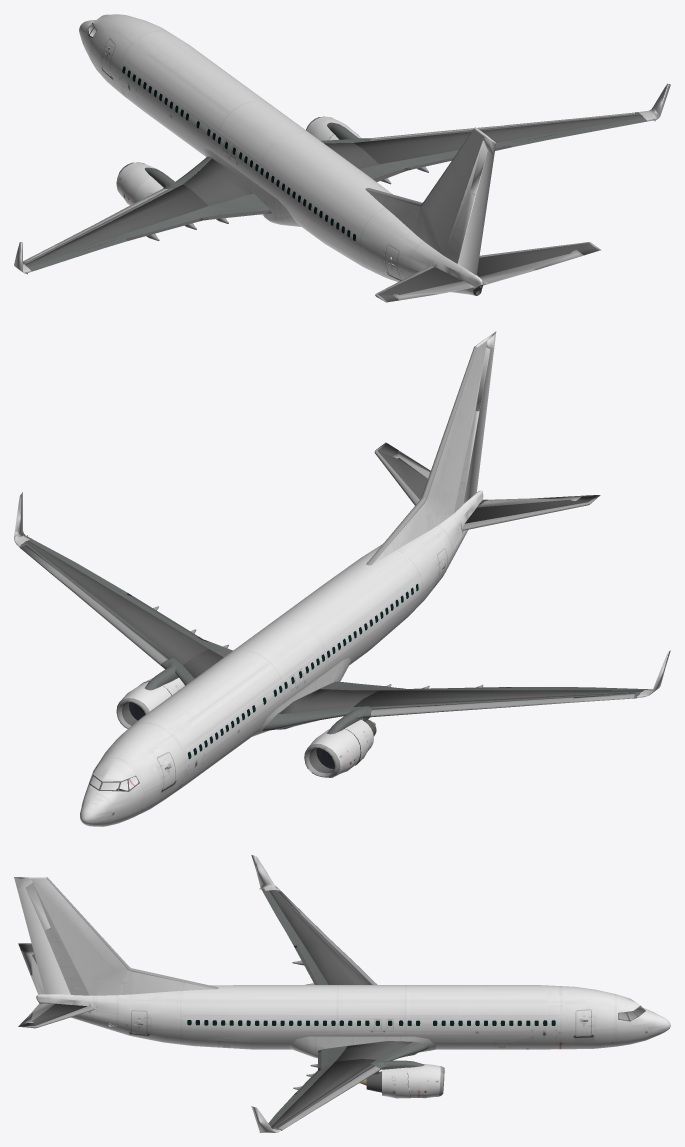
The picture shows the model from 3 angles, top to bottom: view 1: azimuth 30°, elevation 25°; view 2: azimuth 150°, elevation 25°; view 3: azimuth 270°, elevation 25°; orthographic projection. The views are drawn at different scales.
Visible parts, largest first — view 1: fuselage, dorrhfront_0, vstab, ngww, windowslh; view 2: fuselage, dorrhfront_0, vstab, ngww, windowslh; view 3: fuselage, dorrhfront_0, vstab, ngww, windowslh.
Part boxes in pixels (box(x1,y1,x2,y2)): fuselage: box(79, 14, 495, 295); dorrhfront_0: box(23, 23, 655, 302); vstab: box(366, 127, 495, 263); ngww: box(14, 48, 670, 273); windowslh: box(27, 66, 655, 274); fuselage: box(80, 333, 495, 826); dorrhfront_0: box(19, 346, 647, 791); vstab: box(372, 331, 496, 564); ngww: box(14, 492, 670, 790); windowslh: box(25, 536, 418, 759); fuselage: box(14, 878, 670, 1098); dorrhfront_0: box(18, 877, 645, 1132); vstab: box(14, 877, 215, 995); ngww: box(135, 855, 587, 1132); windowslh: box(187, 888, 555, 1132).
Bounding box in the file's own units: 35.69 × 12.11 × 39.42.
Materials: 5 (5 with a texture image).
